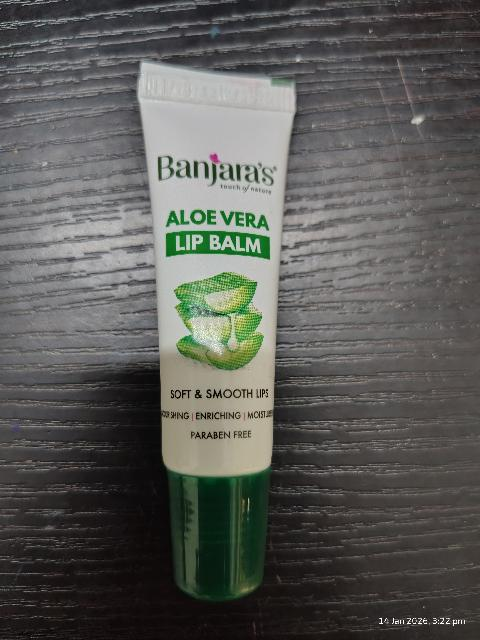banjaras lipbam: (136, 55, 302, 605)
